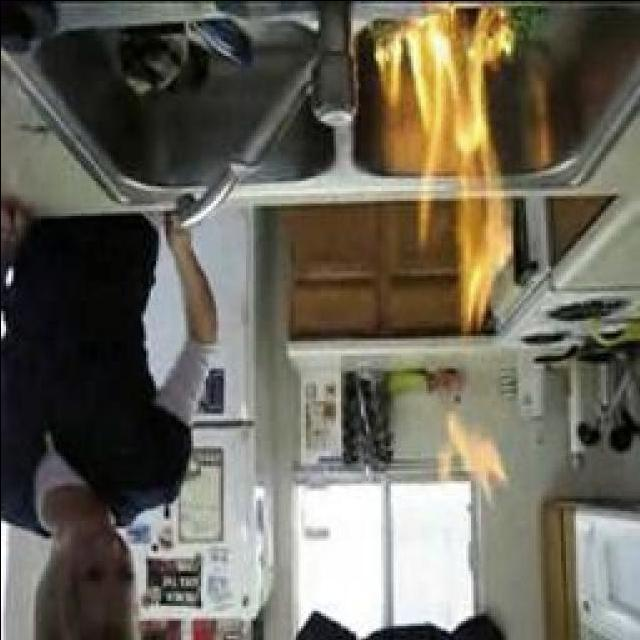Fire: (380, 5, 518, 341), (419, 401, 506, 504)
